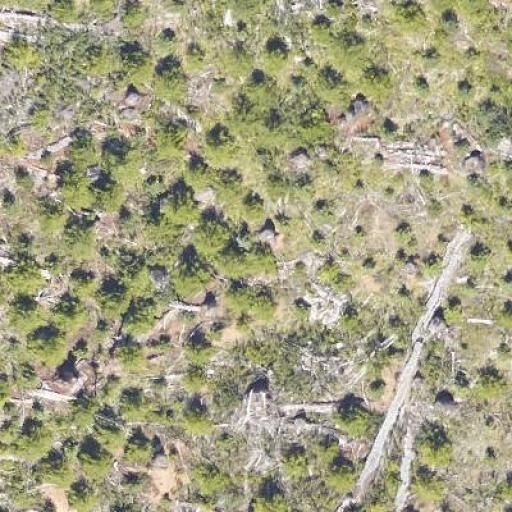tree-top: (24, 318, 70, 364), (101, 141, 146, 182), (150, 58, 192, 101), (332, 396, 374, 438), (355, 62, 398, 101), (56, 218, 96, 258), (74, 442, 113, 480), (207, 129, 240, 173), (14, 417, 52, 455), (116, 46, 153, 85), (2, 262, 46, 294), (310, 69, 349, 105), (179, 403, 218, 438), (414, 435, 454, 469), (194, 219, 230, 256), (161, 193, 199, 228), (213, 176, 247, 215), (174, 262, 210, 297), (321, 459, 357, 493), (60, 174, 94, 210), (394, 0, 430, 34), (297, 110, 333, 144), (334, 28, 370, 62), (260, 38, 294, 73), (253, 242, 286, 278), (116, 338, 150, 372), (120, 387, 152, 423), (123, 299, 160, 330), (184, 331, 216, 365), (218, 243, 249, 278), (411, 468, 447, 498), (39, 453, 71, 486), (123, 432, 155, 464), (68, 266, 100, 298), (70, 140, 101, 173), (95, 182, 125, 216), (8, 299, 41, 329), (99, 286, 130, 316), (254, 483, 286, 512), (282, 448, 312, 478), (6, 40, 36, 70), (68, 482, 98, 512), (60, 298, 88, 330), (228, 281, 257, 311), (259, 120, 287, 151), (477, 371, 506, 400), (439, 298, 467, 328), (246, 75, 274, 105), (72, 398, 99, 428), (254, 291, 278, 319), (310, 16, 334, 43)
